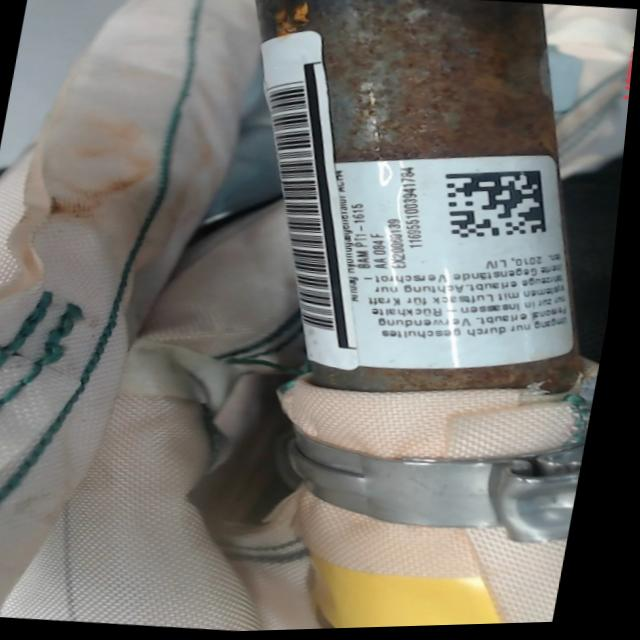datamatrix: (438, 165, 563, 248)
